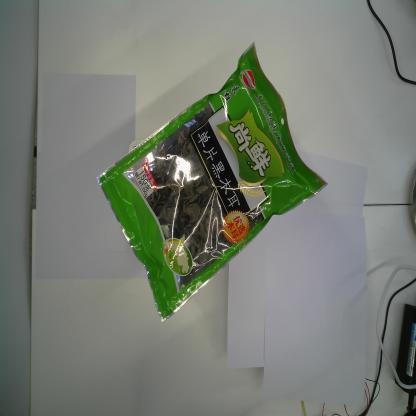Dried Food: (96, 39, 329, 324)
